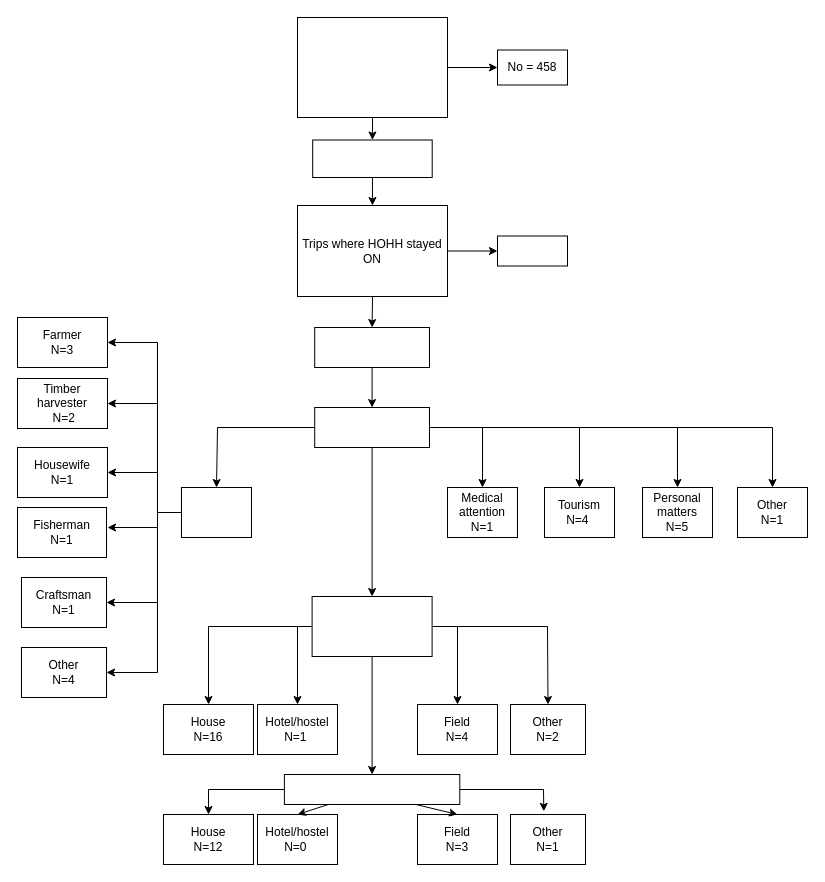
Some shapes in this 825 by 882 pixel diagram are drawn without their labels. The centre of each missing label's shape, as x and y in pixels:
HOHH travel outside the community in past month?: [372,67]
Motivation: [372,427]
Net use in sleeping location: [371,789]
No = 52: [532,250]
Sleeping location: [371,626]
Work N=12: [216,512]
Yes = 23 Mean = 8.3 nights: [372,347]
Yes = 75 Mean = 5.4 times: [372,158]
